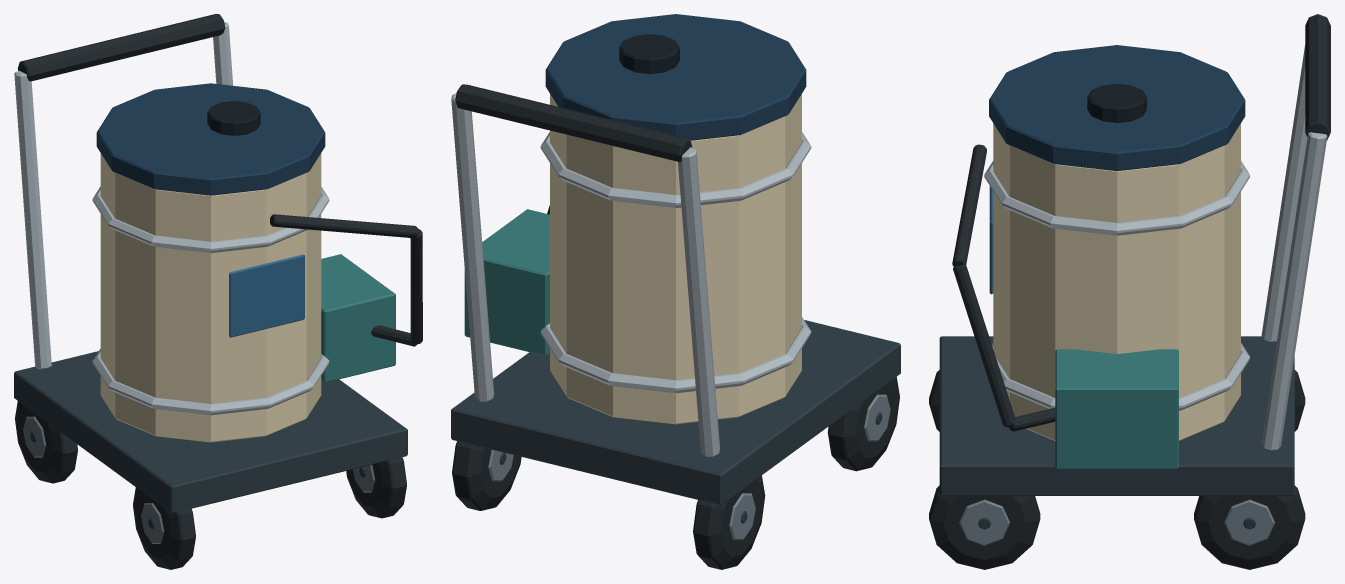
The model's file is b20_brine_mixing_service_cart.glb.
3 renders of one model, left to right at view 1: azimuth 30°, elevation 25°; view 2: azimuth 150°, elevation 25°; view 3: azimuth 270°, elevation 25°, orthographic. The views are drawn at different scales.
Parts seen in each view (by area): view 1: b20_brine_mixing_service_cart; view 2: b20_brine_mixing_service_cart; view 3: b20_brine_mixing_service_cart.
Part boxes in pixels (x1=…): b20_brine_mixing_service_cart: x1=14, y1=14, x2=422, y2=569; b20_brine_mixing_service_cart: x1=451, y1=14, x2=900, y2=569; b20_brine_mixing_service_cart: x1=929, y1=14, x2=1330, y2=569.
Size of the model in its own units: 0.8568 by 1.14 by 0.94.
